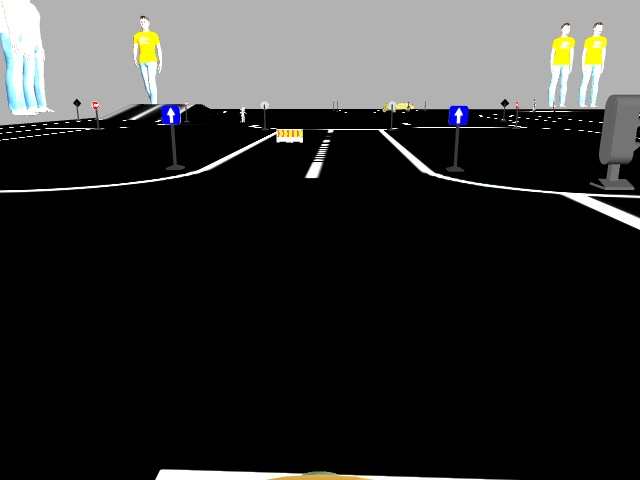ClosedRoadStand: (276, 129, 302, 141)
OneWay: (162, 106, 180, 125), (451, 107, 467, 125)
